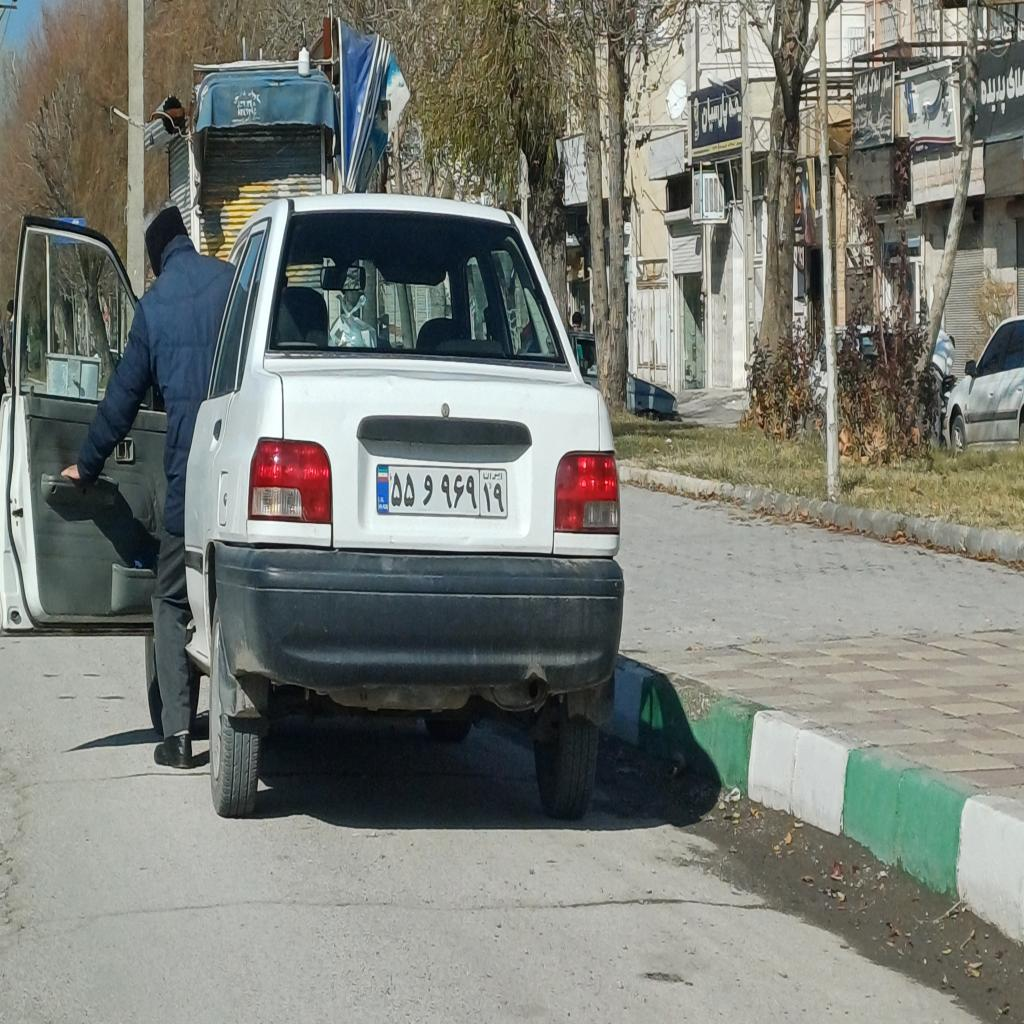Plates: (376, 462, 508, 520)
